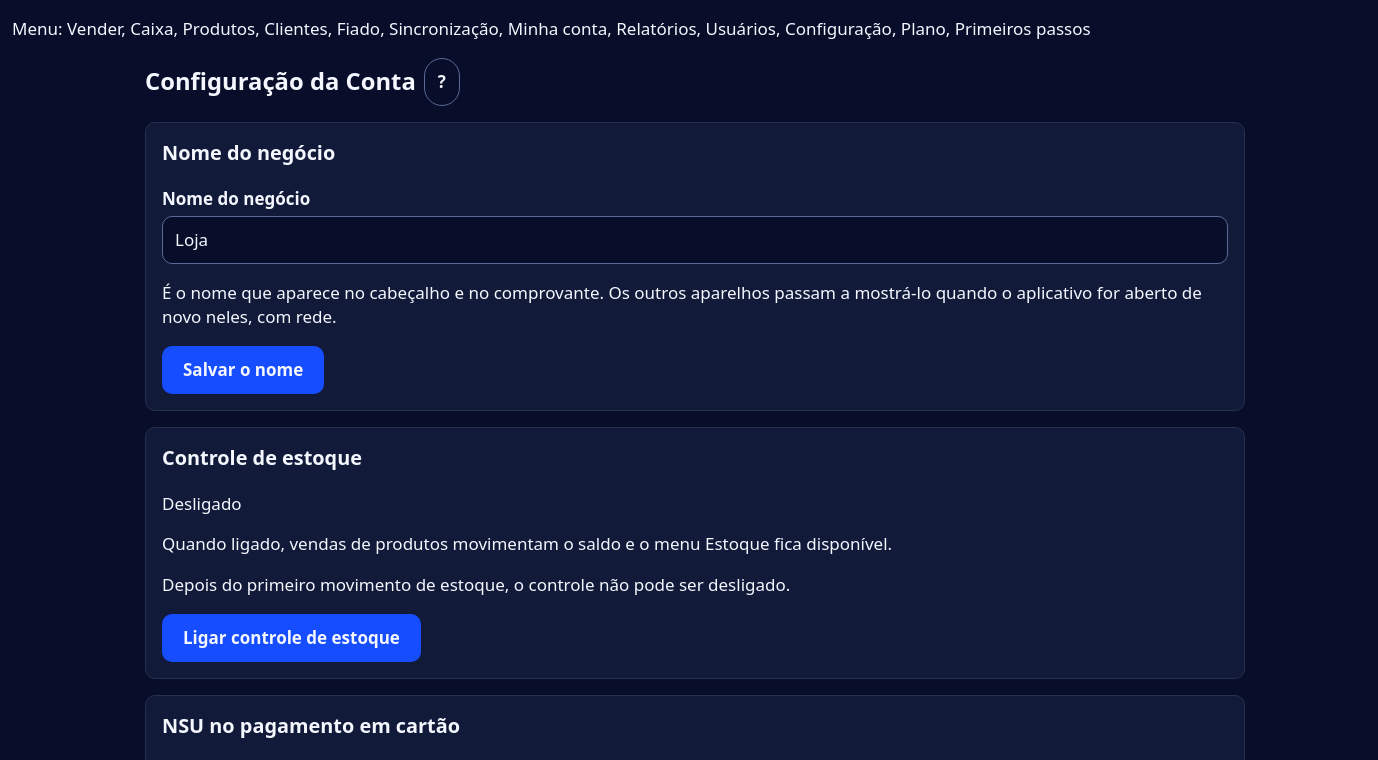
it: administração na tela › liga o estoque e mostra o menu imediatamente
The image size is (1378, 760).
Click the button "Ligar controle de estoque". click: click(291, 638)
box: [162,614,421,662]
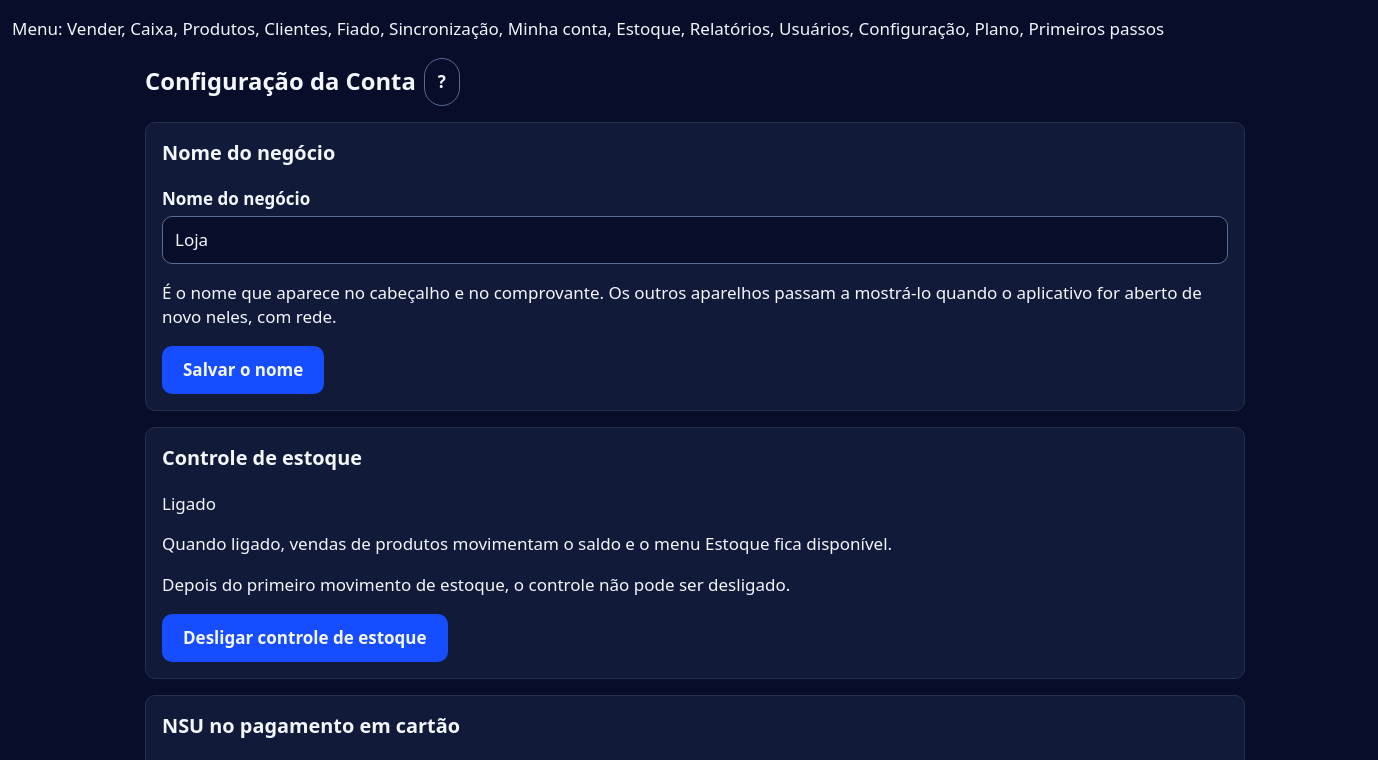
Expected: the text "Ligado" is shown, [162,492,216,515]
Expected: the button "Desligar controle de estoque" is shown, [162,614,448,662]
